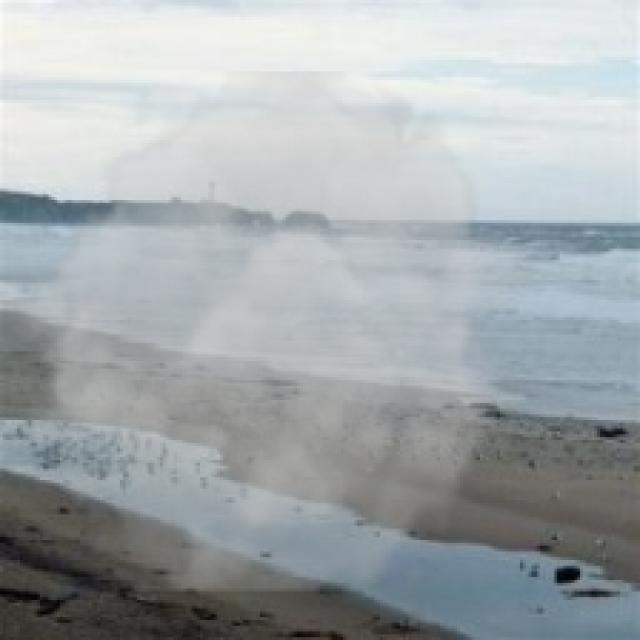smoke: (0, 71, 537, 592)
